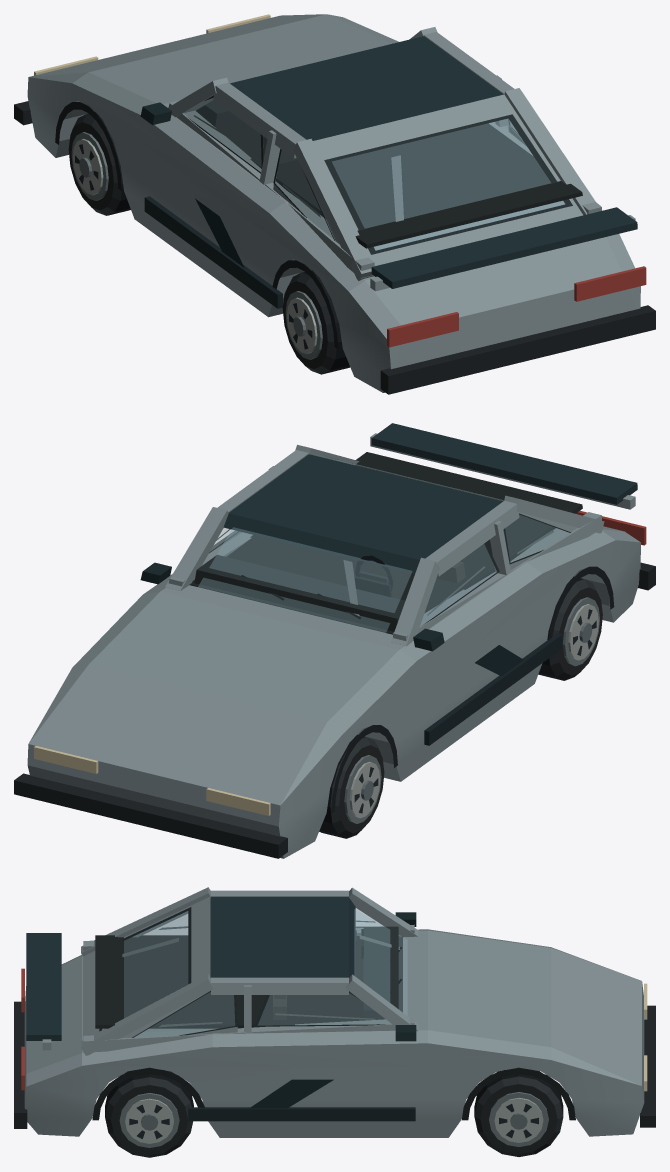
File: sportive_argent.glb
3 renders of one model, top to bottom at view 1: azimuth 30°, elevation 25°; view 2: azimuth 150°, elevation 25°; view 3: azimuth 270°, elevation 25°, orthographic. The views are drawn at different scales.
Parts seen in each view (by area): view 1: proposition_sportive_argent; view 2: proposition_sportive_argent; view 3: proposition_sportive_argent.
Boxes of the visible parts, box(x1,y1,x2,y2) form: proposition_sportive_argent: box(14, 14, 655, 394); proposition_sportive_argent: box(14, 423, 655, 858); proposition_sportive_argent: box(14, 887, 655, 1157).
Size of the model in its own units: 1.97 by 1.28 by 4.38.
